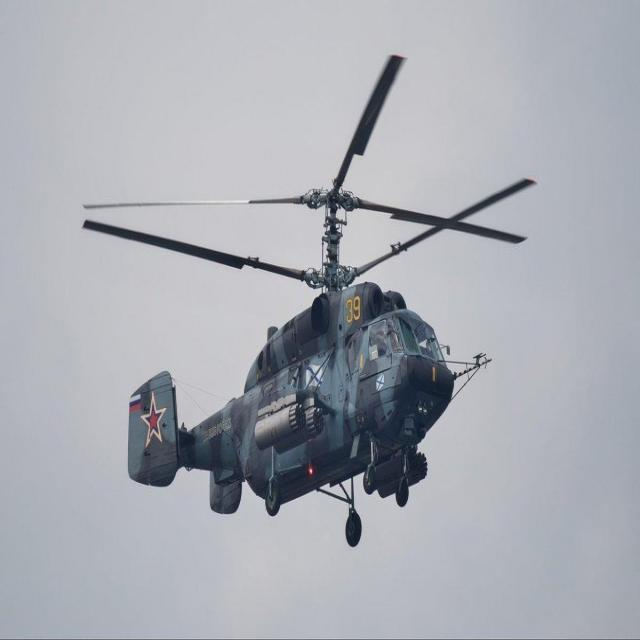MIL_HELO: (85, 50, 552, 561)
